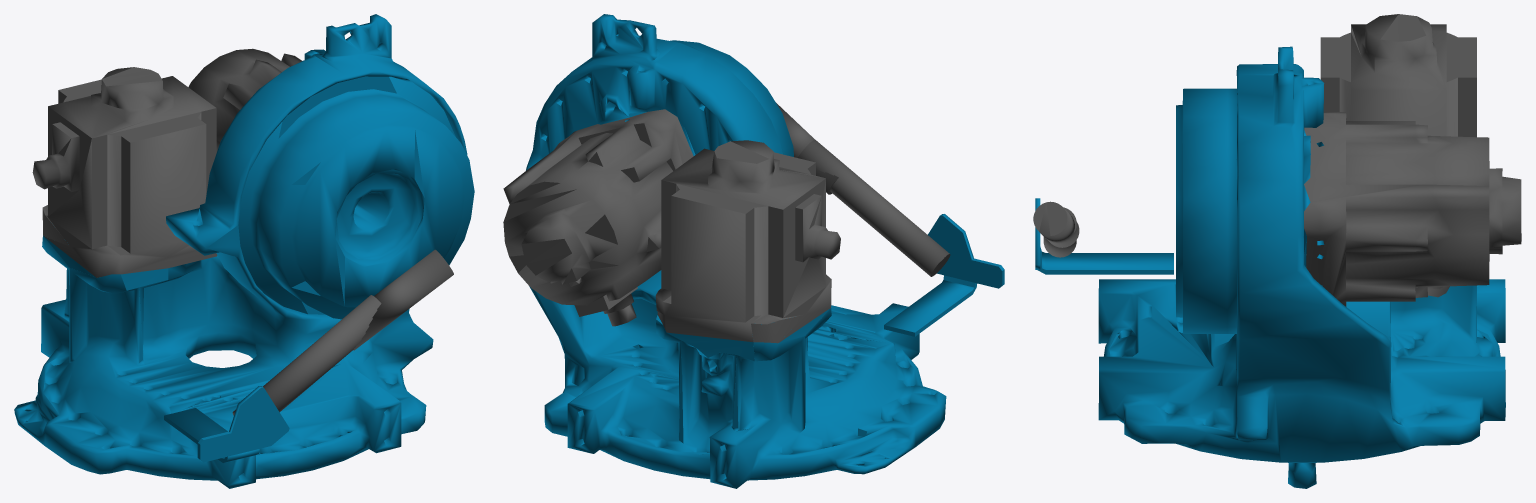
The picture shows the model from 3 angles, left to right: view 1: azimuth 30°, elevation 25°; view 2: azimuth 150°, elevation 25°; view 3: azimuth 270°, elevation 25°; orthographic projection. The views are drawn at different scales.
Parts seen in each view (by area): view 1: mh50-35_lk1, link1, link1.001; view 2: mh50-35_lk1, link1, link1.001; view 3: mh50-35_lk1, link1, link1.001.
Part boxes in pixels (box(x1,y1,x2,y2)): mh50-35_lk1: box(14, 14, 474, 488); link1: box(164, 295, 381, 462); link1.001: box(353, 249, 453, 350); mh50-35_lk1: box(503, 14, 946, 488); link1: box(798, 139, 1004, 336); link1.001: box(776, 103, 838, 194); mh50-35_lk1: box(1098, 14, 1521, 488); link1: box(1035, 198, 1173, 274); link1.001: box(1033, 201, 1079, 247).
Bounding box in the file's own units: 0.5696 × 0.5622 × 0.5251.
